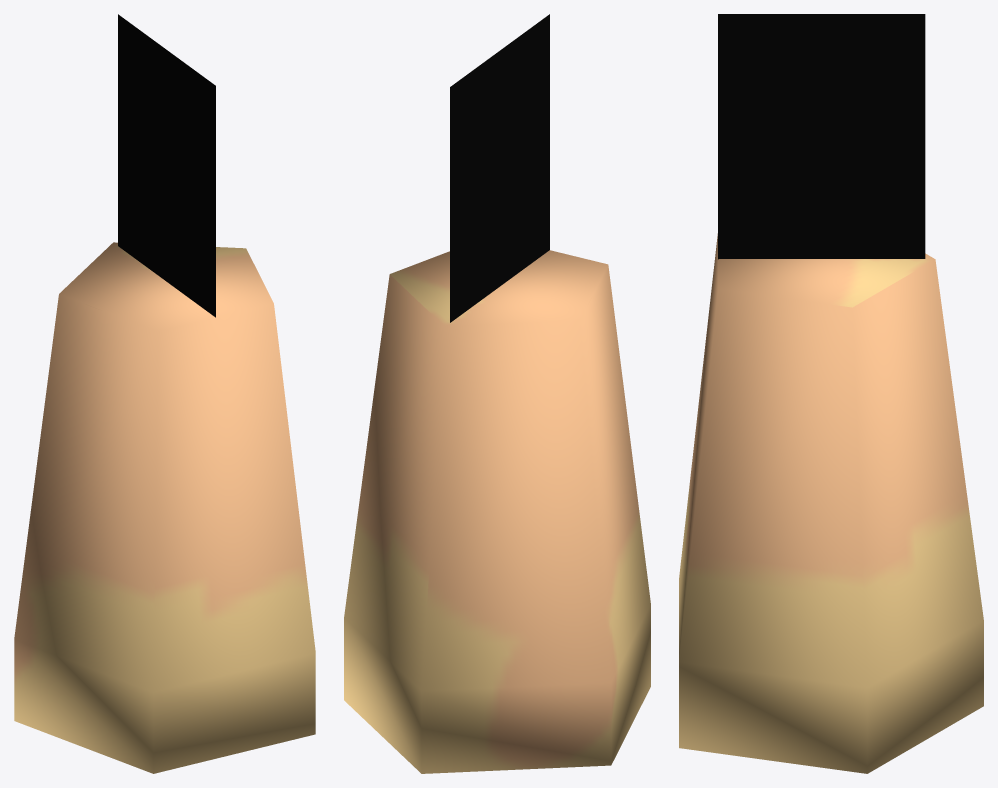
The model's file is CandleMid.fbx.
The picture shows the model from 3 angles, left to right: view 1: azimuth 30°, elevation 25°; view 2: azimuth 150°, elevation 25°; view 3: azimuth 270°, elevation 25°; orthographic projection. The views are drawn at different scales.
Visible parts, largest first — view 1: CandleTall; view 2: CandleTall; view 3: CandleTall.
Part boxes in pixels (x1,y1,x2,y2): CandleTall: (14,14,315,773); CandleTall: (344,14,650,773); CandleTall: (679,14,983,773).
Size of the model in its own units: 5.61 by 13.36 by 5.33.
Materials: 2 (2 with a texture image).
